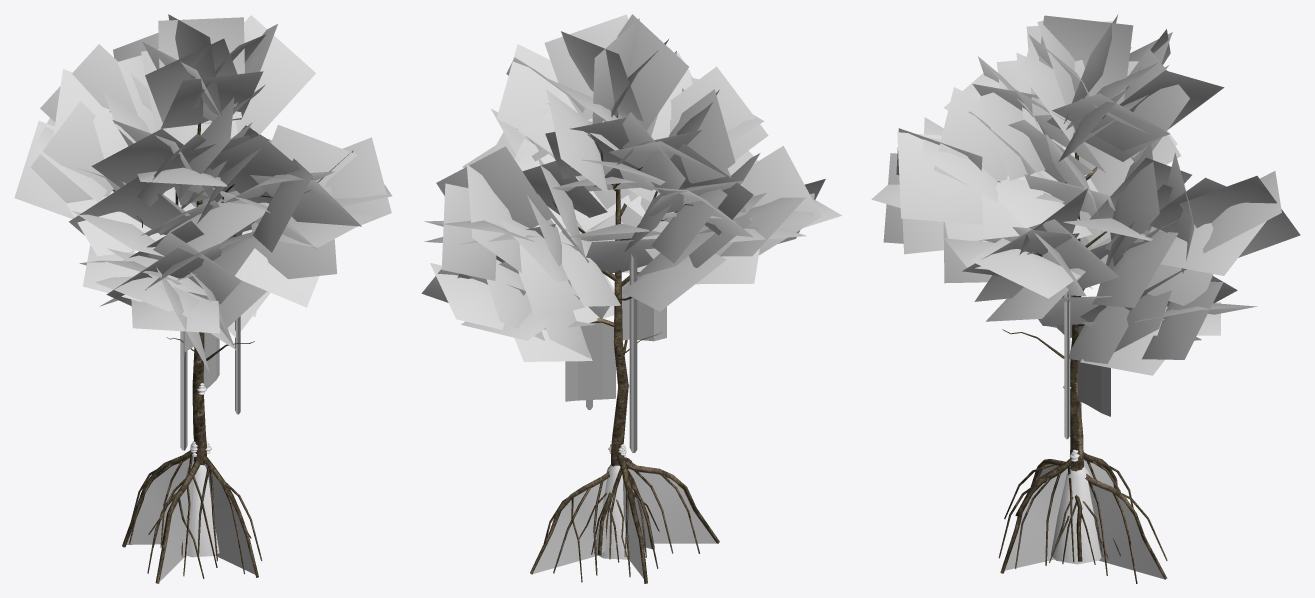
File: mangrove2.fbx
The picture shows the model from 3 angles, left to right: view 1: azimuth 30°, elevation 25°; view 2: azimuth 150°, elevation 25°; view 3: azimuth 270°, elevation 25°; orthographic projection. The views are drawn at different scales.
Visible parts, largest first — view 1: polySurface394; view 2: polySurface394; view 3: polySurface394.
Boxes of the visible parts, left/top/right/bottom form: polySurface394: left=14, top=14, right=392, bottom=583; polySurface394: left=421, top=14, right=842, bottom=583; polySurface394: left=871, top=14, right=1300, bottom=583.
Bounding box in the file's own units: 27.1 × 41.61 × 29.72.
